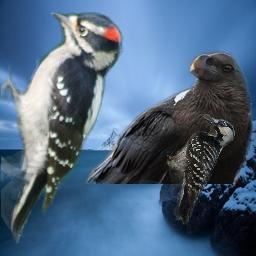Crow: (83, 49, 256, 184)
Woodpecker: (1, 5, 125, 244), (167, 114, 235, 225)
